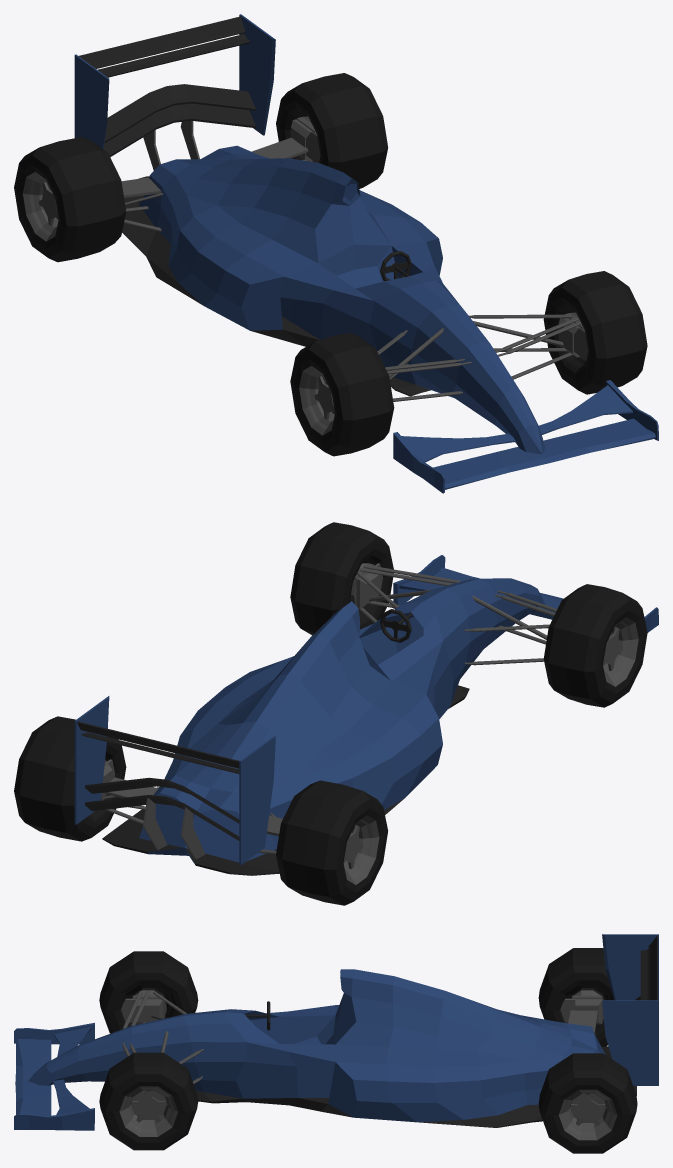
The model's file is Class C - Base.fbx.
3 views of the same model, one above another, from view 1: azimuth 30°, elevation 25°; view 2: azimuth 150°, elevation 25°; view 3: azimuth 270°, elevation 25° (orthographic). The views are drawn at different scales.
Parts seen in each view (by area): view 1: Body, Rear Wing, FL.003, FL.004, Front Wing, FL.001, FL.002, Suspension Front, Suspension Rear, Wheel Base RL, Steering FL; view 2: Body, Rear Wing, FL.003, FL.004, FL.002, FL.001, Suspension Front, Front Wing, Suspension Rear, Steering FL, Steering Wheel; view 3: Body, FL.002, FL.001, Rear Wing, Front Wing, FL.004, FL.003, Steering FR, Wheel Base RR, Suspension Front, Suspension Rear.
Boxes of the visible parts, box(x1,y1,x2,y2) form: Body: box(122, 145, 545, 454); Rear Wing: box(74, 14, 275, 170); FL.003: box(14, 137, 126, 262); FL.004: box(290, 333, 394, 456); Front Wing: box(393, 380, 658, 493); FL.001: box(543, 271, 647, 394); FL.002: box(276, 73, 388, 188); Suspension Front: box(377, 314, 581, 401); Suspension Rear: box(121, 137, 312, 231); Wheel Base RL: box(291, 116, 320, 162); Steering FL: box(558, 312, 588, 360); Body: box(102, 578, 545, 875); Rear Wing: box(74, 696, 275, 864); FL.003: box(276, 780, 387, 905); FL.004: box(543, 584, 647, 707); FL.002: box(14, 716, 126, 841); FL.001: box(290, 522, 393, 635); Suspension Front: box(357, 564, 557, 665); Front Wing: box(393, 555, 658, 632); Suspension Rear: box(101, 777, 282, 854); Steering FL: box(349, 563, 382, 609); Steering Wheel: box(380, 609, 412, 642); Body: box(28, 969, 636, 1127); FL.002: box(538, 1053, 637, 1153); FL.001: box(99, 1052, 198, 1150); Rear Wing: box(602, 934, 658, 1085); Front Wing: box(14, 1022, 94, 1130); FL.004: box(99, 951, 198, 1033); FL.003: box(538, 948, 613, 1046); Steering FR: box(121, 988, 166, 1024); Wheel Base RR: box(560, 988, 604, 1024); Suspension Front: box(122, 991, 203, 1083); Suspension Rear: box(568, 1010, 597, 1033).
Size of the model in its own units: 541 by 245 by 1138.
